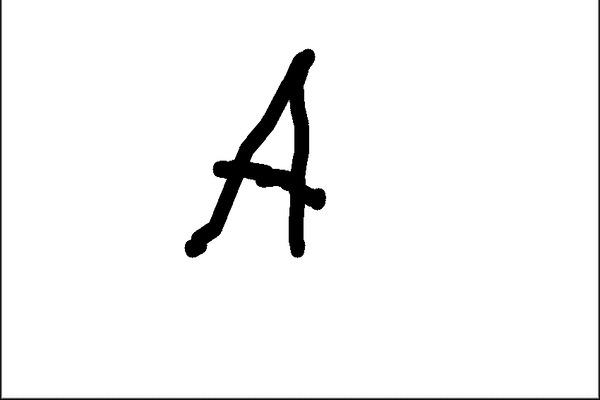A: (181, 42, 328, 270)
